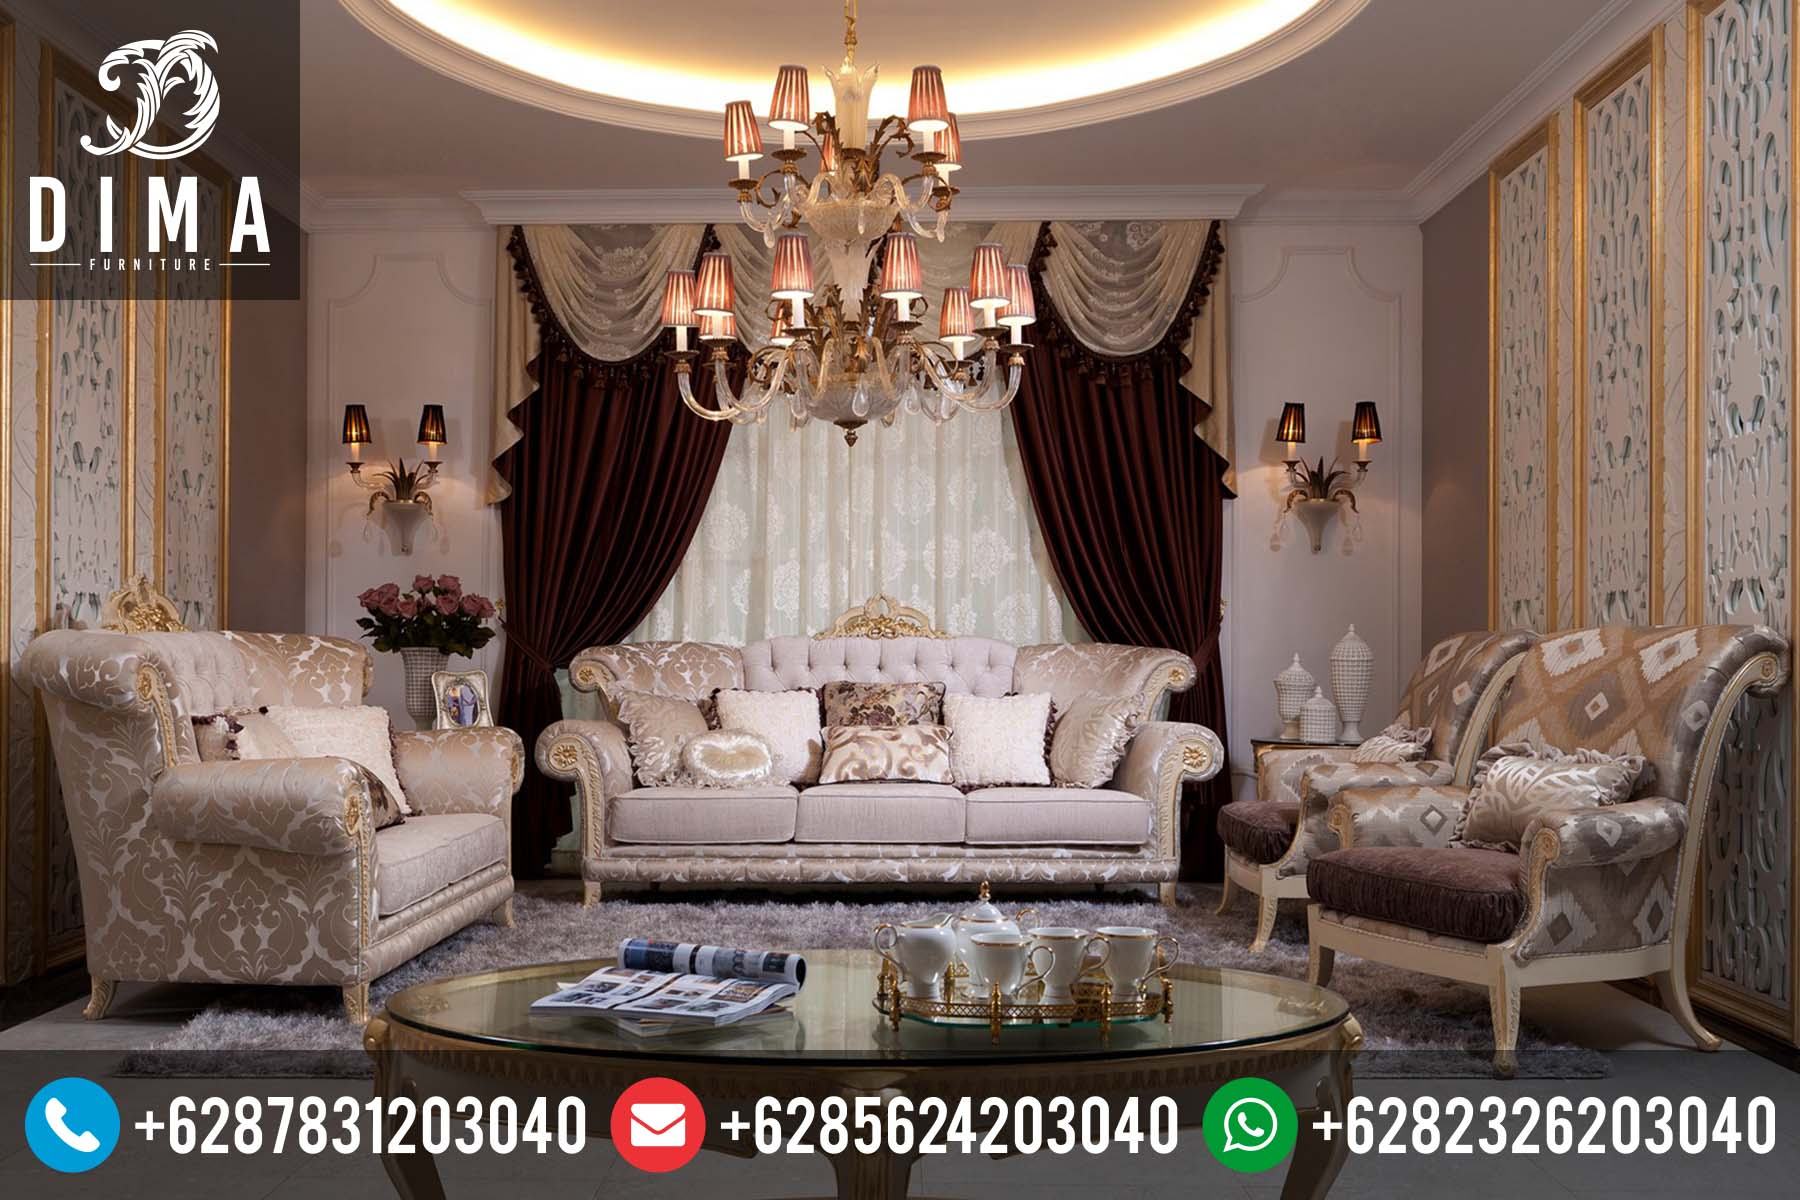Carving Chair: (1223, 628, 1784, 1043), (39, 615, 510, 1063), (541, 604, 1209, 900)
